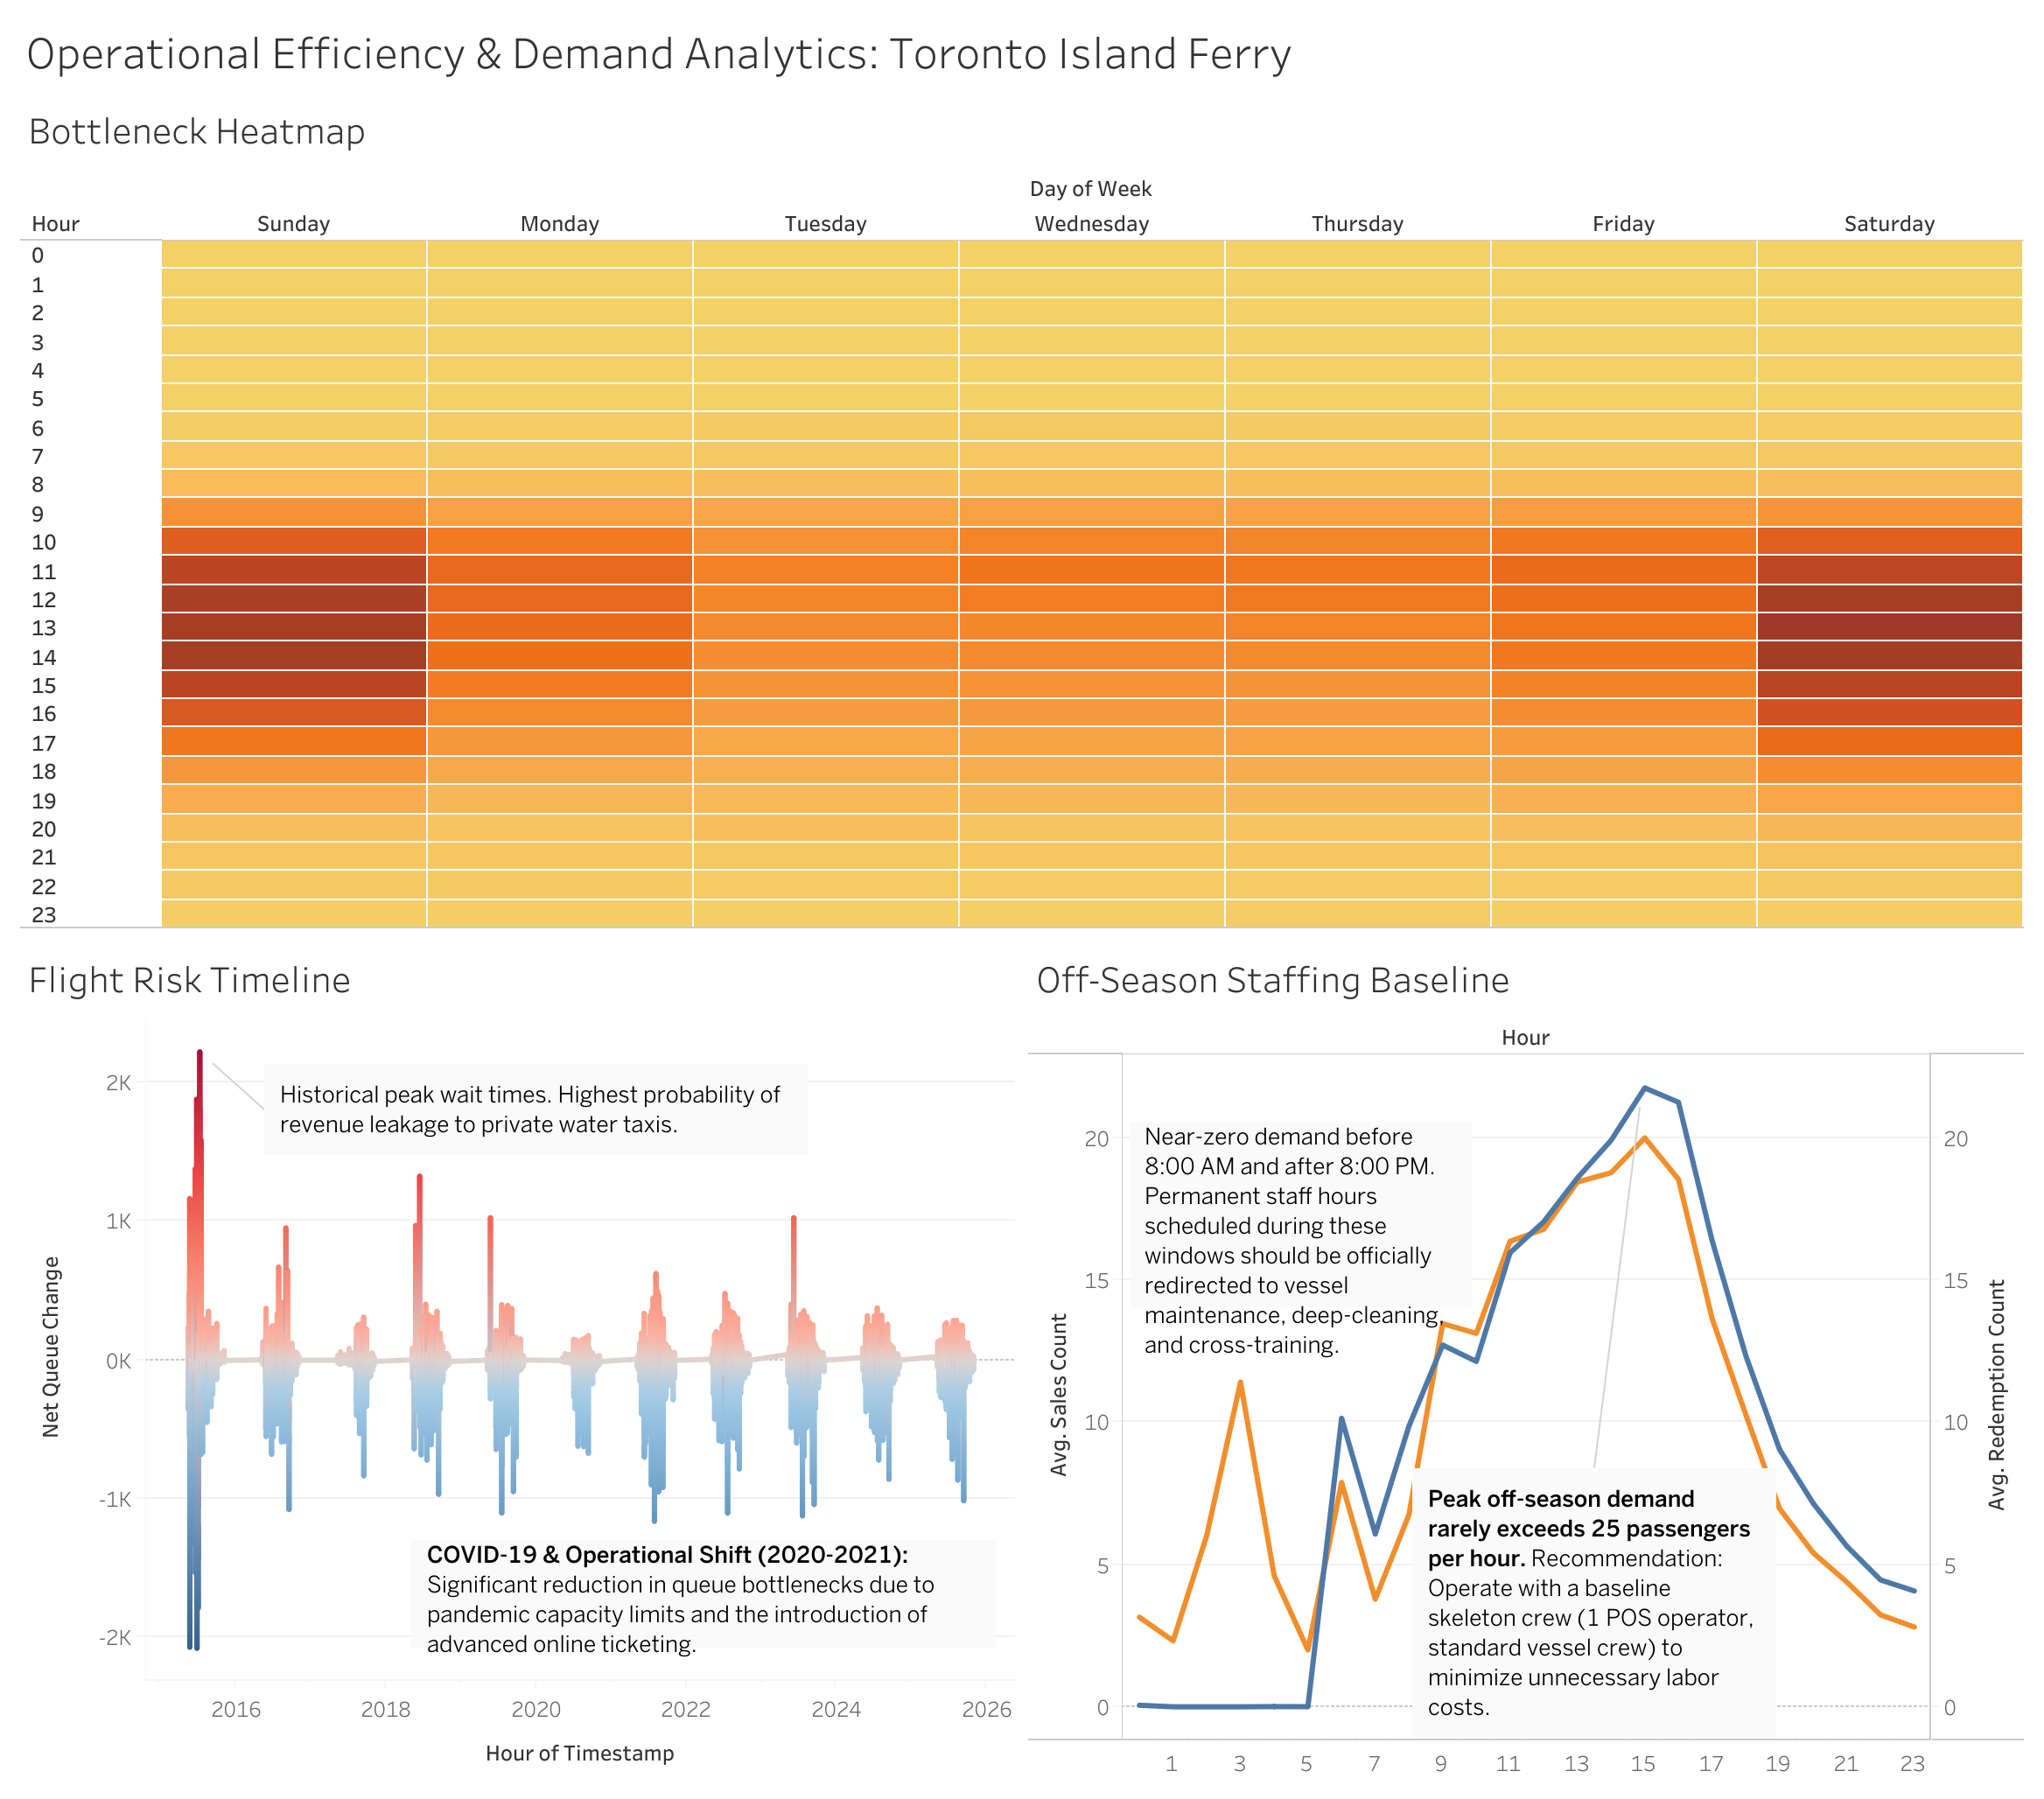

The dashboard page shown, as its layout file describes it:
{"tool":"tableau","page":{"name":"Operational Efficiency & Demand Analytics: Toronto Island Ferry","canvas":[1169,1029],"ordinal":0},"visuals":[{"type":"title","box":[8,8,1153,42]},{"type":"worksheet","title":"Bottleneck Heatmap","mark":"Square","rows":["Hour"],"cols":["Day_of_Week"],"box":[8,50,1153,485.5]},{"type":"worksheet","title":"Flight Risk Timeline","mark":"Automatic","rows":["Net_Queue_Change"],"cols":["Timestamp"],"box":[8,535.5,576.5,485.5]},{"type":"worksheet","title":"Off-Season Staffing Baseline","mark":"Line","rows":["Sales Count","Redemption Count"],"cols":["Hour"],"box":[584.5,535.5,576.5,485.5]}]}

Visuals, with their boxes in screenshot pixels (x1, y1, x2, y2), scaled from the page's 1169x1029 canvas onto the 2044x1799 screenshot:
title: (14, 14, 2030, 87)
"Bottleneck Heatmap" worksheet (Square marks): (14, 87, 2030, 936)
"Flight Risk Timeline" worksheet: (14, 936, 1022, 1785)
"Off-Season Staffing Baseline" worksheet (Line marks): (1022, 936, 2030, 1785)
